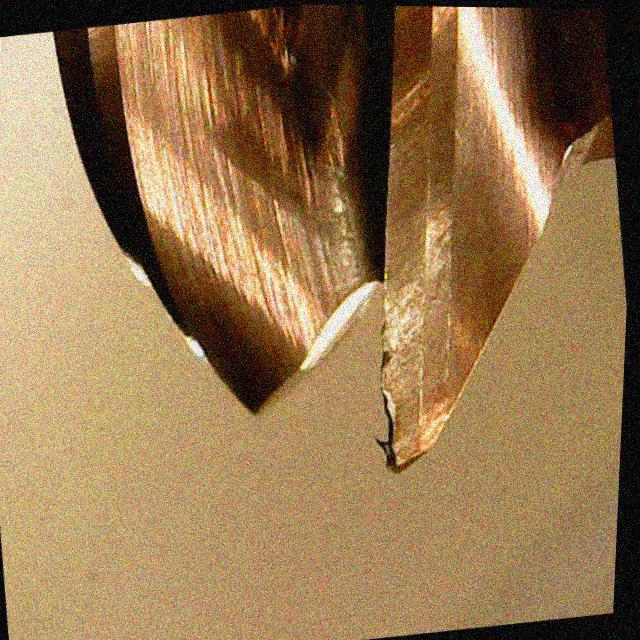Tool-wear-class-1: (342, 190, 495, 481)
